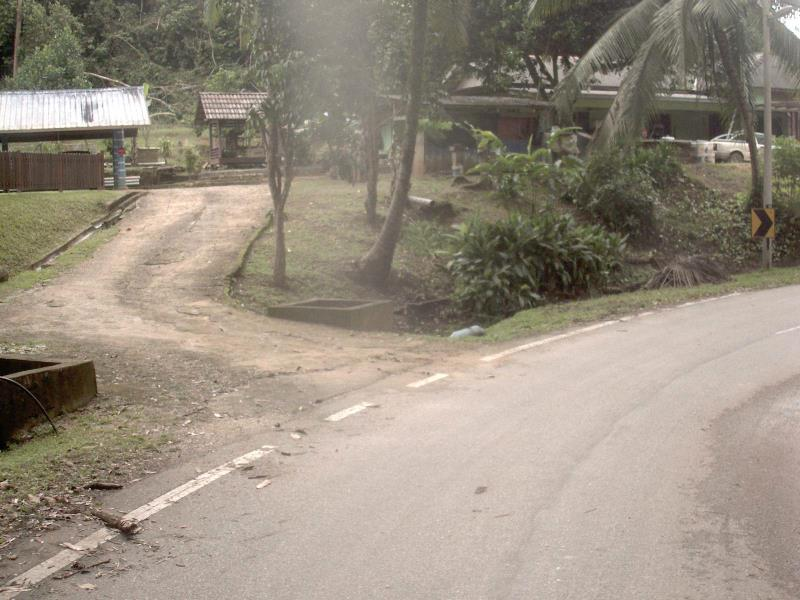traffic_sign: (743, 199, 781, 250)
